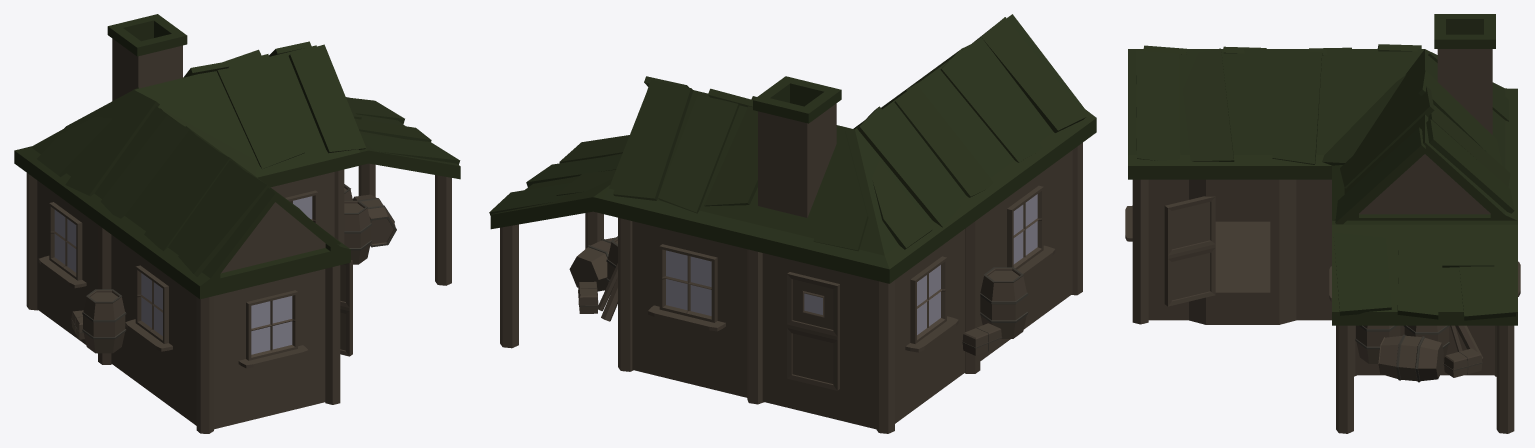
File: house.f7f8561c.gltf
3 renders of one model, left to right at view 1: azimuth 30°, elevation 25°; view 2: azimuth 150°, elevation 25°; view 3: azimuth 270°, elevation 25°, orthographic. The views are drawn at different scales.
Visible parts, largest first — view 1: Cube.001, Cube, Cube.020, Cube.019, Cube.004, Cube.015, Cube.012, Cube.014, Cube.013, Cube.006, Cube.005, Beczka.003 (+16 smaller); view 2: Cube.001, Cube, Cube.007, Cube.022, Cube.021, Cube.008, Cube.012, Cube.015, Cube.013, Cube.014, Cube.017, Cube.023 (+18 smaller); view 3: Cube.001, Cube, Cube.002, Cube.011, Cube.009, Cube.010, Cube.027, Cube.026, Cube.028, Beczka.002, Cube.019, Cylinder.007 (+12 smaller).
Part boxes in pixels (<box>): Cube.001: <box>14,14,460,299</box>; Cube: <box>37,172,334,429</box>; Cube.020: <box>216,49,305,168</box>; Cube.019: <box>288,44,365,153</box>; Cube.004: <box>238,290,308,368</box>; Cube.015: <box>65,89,159,196</box>; Cube.012: <box>178,172,269,276</box>; Cube.014: <box>100,115,191,218</box>; Cube.013: <box>144,146,232,250</box>; Cube.006: <box>38,202,86,288</box>; Cube.005: <box>125,265,172,351</box>; Beczka.003: <box>82,289,126,353</box>; Cube.001: <box>490,14,1096,283</box>; Cube: <box>632,150,1072,429</box>; Cube.007: <box>787,272,839,390</box>; Cube.022: <box>613,82,693,200</box>; Cube.021: <box>658,95,739,213</box>; Cube.008: <box>648,244,725,331</box>; Cube.012: <box>981,17,1086,132</box>; Cube.015: <box>857,106,961,227</box>; Cube.013: <box>940,49,1042,162</box>; Cube.014: <box>894,84,993,197</box>; Cube.017: <box>813,131,868,251</box>; Cube.023: <box>704,96,757,206</box>; Cube.001: <box>1128,14,1517,325</box>; Cube: <box>1148,179,1494,375</box>; Cube.002: <box>1164,196,1215,306</box>; Cube.011: <box>1136,50,1180,160</box>; Cube.009: <box>1272,51,1322,164</box>; Cube.010: <box>1182,48,1234,161</box>; Cube.027: <box>1333,232,1391,315</box>; Cube.026: <box>1397,234,1439,319</box>; Cube.028: <box>1459,255,1515,320</box>; Beczka.002: <box>1378,334,1443,382</box>; Cube.019: <box>1335,127,1425,224</box>; Cylinder.007: <box>1132,179,1148,324</box>.
Bounding box in the file's own units: 8.51 × 5.61 × 7.15.
